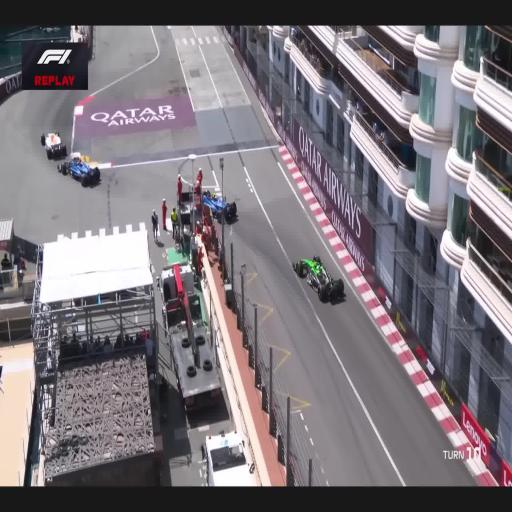f1_car: (292, 256, 344, 300), (57, 153, 100, 186), (202, 191, 237, 221), (41, 131, 67, 159)
